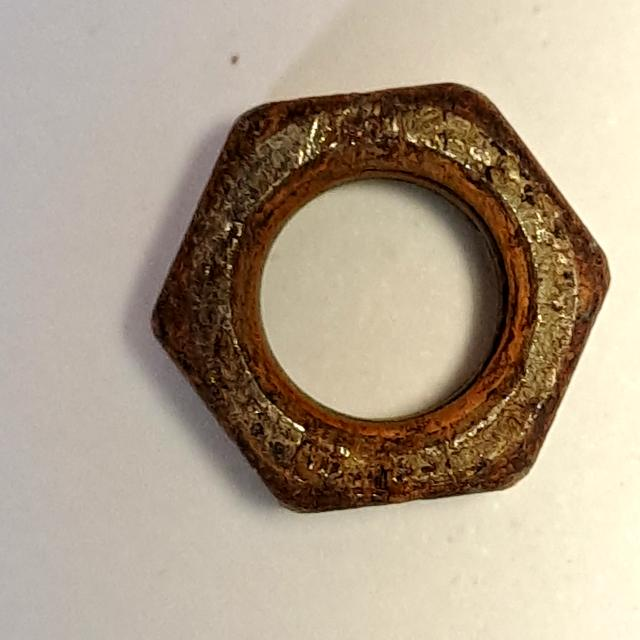Rust: (132, 70, 631, 530)
